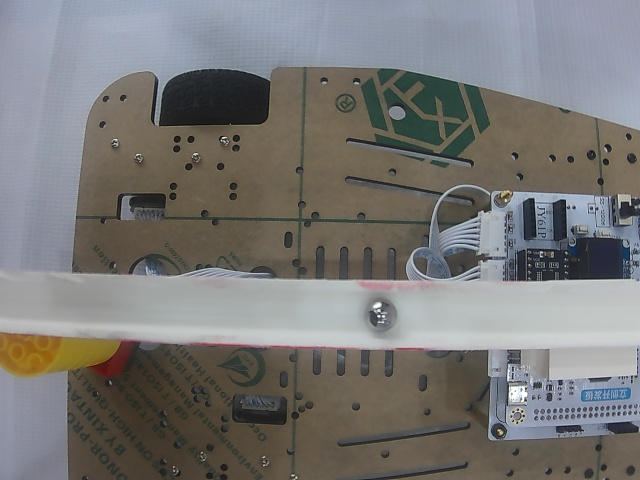steelball: (364, 298, 396, 331)
